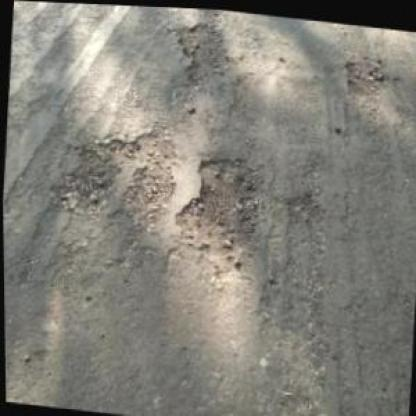pothole: (166, 147, 270, 284), (55, 129, 132, 215), (119, 124, 182, 224), (168, 18, 233, 90), (341, 54, 401, 100)
